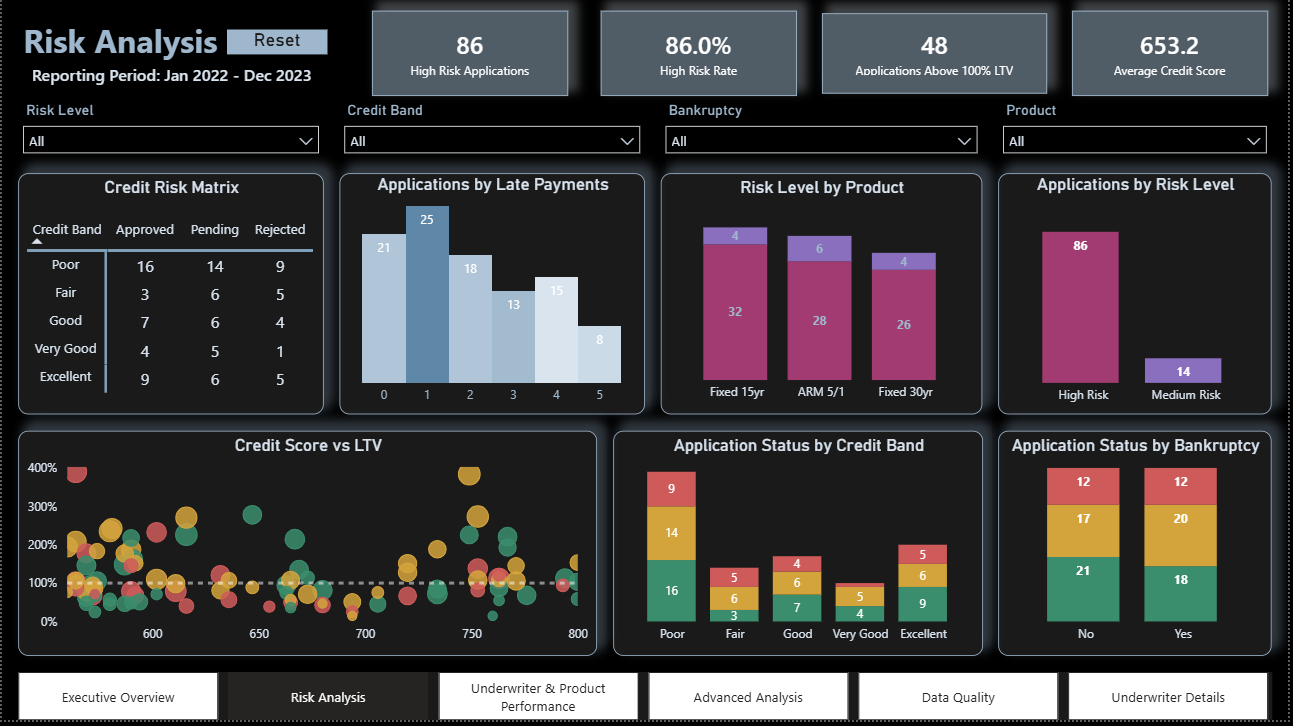

The dashboard page shown, as its layout file describes it:
{"tool":"powerbi","page":{"name":"Risk Analysis","canvas":[1280,720],"ordinal":1},"visuals":[{"type":"cardVisual","fields":{"Data":["_Measures.High Risk Applications"]},"box":[368.8,13.2,195,85],"z":0},{"type":"cardVisual","fields":{"Data":["_Measures.High Risk Rate"]},"box":[595.5,13.2,195,85],"z":1000},{"type":"cardVisual","fields":{"Data":["_Measures.Applications Above 100% LTV"]},"box":[816,16,224,80],"z":2000},{"type":"cardVisual","fields":{"Data":["_Measures.Average Credit Score"]},"box":[1064.8,13.2,195,85],"z":3000},{"type":"textbox","box":[16,16,272,64],"z":4000},{"type":"clusteredColumnChart","title":"Applications by Risk Level","fields":{"Category":["FactApplications.Risk Level"],"Y":["_Measures.Total Applications"]},"box":[992,176,272,240],"z":5000},{"type":"columnChart","title":"Application Status by Bankruptcy","fields":{"Category":["DimApplicants.Bankruptcy Status"],"Series":["FactApplications.Status"],"Y":["_Measures.Total Applications"]},"box":[992,432,272,224],"z":6000},{"type":"columnChart","title":"Risk Level by Product","fields":{"Category":["DimProducts.ProductName"],"Series":["FactApplications.Risk Level"],"Y":["_Measures.Total Applications"]},"box":[656,176,320,240],"z":7000},{"type":"pivotTable","title":"Credit Risk Matrix","fields":{"Rows":["DimApplicants.Credit Band"],"Columns":["FactApplications.Status"],"Values":["_Measures.Total Applications"]},"box":[16,176,304,240],"z":8000},{"type":"columnChart","title":"Application Status by Credit Band","fields":{"Category":["DimApplicants.Credit Band"],"Series":["FactApplications.Status"],"Y":["_Measures.Total Applications"]},"box":[608,432,368,224],"z":9000},{"type":"clusteredColumnChart","title":"Applications by Late Payments","fields":{"Category":["DimApplicants.LatePayments"],"Y":["_Measures.Total Applications"]},"box":[336,176,304,240],"z":10000},{"type":"slicer","fields":{"Values":["FactApplications.Risk Level"]},"box":[16,100,304,60],"z":11000},{"type":"slicer","fields":{"Values":["DimApplicants.Credit Band"]},"box":[336,100,304,60],"z":12000},{"type":"slicer","fields":{"Values":["DimApplicants.Bankruptcy Status"]},"box":[656,100,320,60],"z":13000},{"type":"slicer","fields":{"Values":["DimProducts.ProductName"]},"box":[992,100,272,60],"z":14000},{"type":"scatterChart","title":"Credit Score vs LTV","fields":{"Size":["Sum(FactApplications.LoanAmount)"],"Series":["FactApplications.Status"],"X":["DimApplicants.CreditScore"],"Y":["FactApplications.LTV"]},"box":[16,432,576,224],"z":15000},{"type":"cardVisual","fields":{"Data":["_Measures.Selected Period"]},"box":[30,48,300,55],"z":16000},{"type":"pageNavigator","box":[16,672,1248,48],"z":17000},{"type":"actionButton","title":"Reset ","box":[224,32,100,25],"z":18000}]}

Visuals, with their boxes in screenshot pixels (x1, y1, x2, y2), scaled from the page's 1280x720 canvas onto the 1293x726 screenshot:
cardVisual - _Measures.High Risk Applications: select_region(373, 13, 570, 99)
cardVisual - _Measures.High Risk Rate: select_region(602, 13, 799, 99)
cardVisual - _Measures.Applications Above 100% LTV: select_region(824, 16, 1051, 97)
cardVisual - _Measures.Average Credit Score: select_region(1076, 13, 1273, 99)
textbox: select_region(16, 16, 291, 81)
"Applications by Risk Level" clusteredColumnChart: select_region(1002, 177, 1277, 419)
"Application Status by Bankruptcy" columnChart: select_region(1002, 436, 1277, 661)
"Risk Level by Product" columnChart: select_region(663, 177, 986, 419)
"Credit Risk Matrix" pivotTable: select_region(16, 177, 323, 419)
"Application Status by Credit Band" columnChart: select_region(614, 436, 986, 661)
"Applications by Late Payments" clusteredColumnChart: select_region(339, 177, 646, 419)
slicer - FactApplications.Risk Level: select_region(16, 101, 323, 161)
slicer - DimApplicants.Credit Band: select_region(339, 101, 646, 161)
slicer - DimApplicants.Bankruptcy Status: select_region(663, 101, 986, 161)
slicer - DimProducts.ProductName: select_region(1002, 101, 1277, 161)
"Credit Score vs LTV" scatterChart: select_region(16, 436, 598, 661)
cardVisual - _Measures.Selected Period: select_region(30, 48, 333, 104)
pageNavigator: select_region(16, 678, 1277, 725)
"Reset " actionButton: select_region(226, 32, 327, 57)
